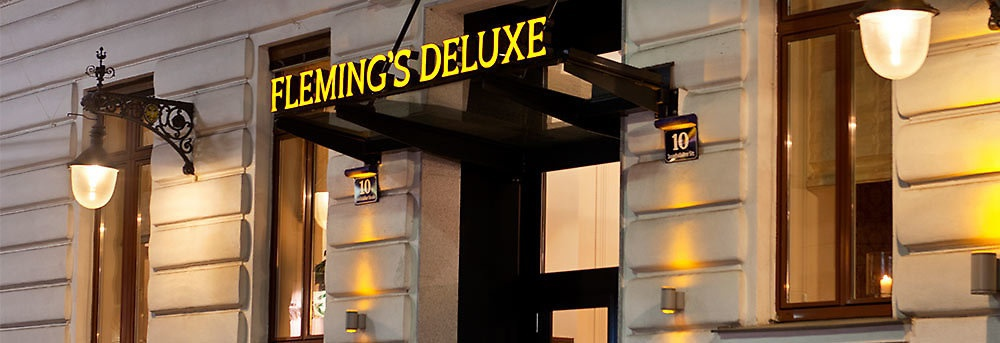text: (420, 14, 435, 84), (436, 14, 451, 84), (452, 14, 467, 84), (468, 14, 483, 84), (484, 14, 499, 84), (500, 14, 515, 84), (516, 14, 531, 84), (532, 14, 547, 84), (269, 47, 284, 114), (285, 47, 300, 114), (301, 47, 316, 114), (317, 47, 332, 114), (333, 47, 348, 114), (349, 47, 364, 114), (365, 47, 380, 114), (381, 47, 396, 114), (397, 47, 412, 114), (665, 131, 680, 152), (681, 131, 696, 152), (358, 179, 373, 196), (658, 150, 673, 162), (674, 150, 689, 162), (690, 150, 705, 162), (349, 195, 364, 203), (365, 195, 380, 203)
